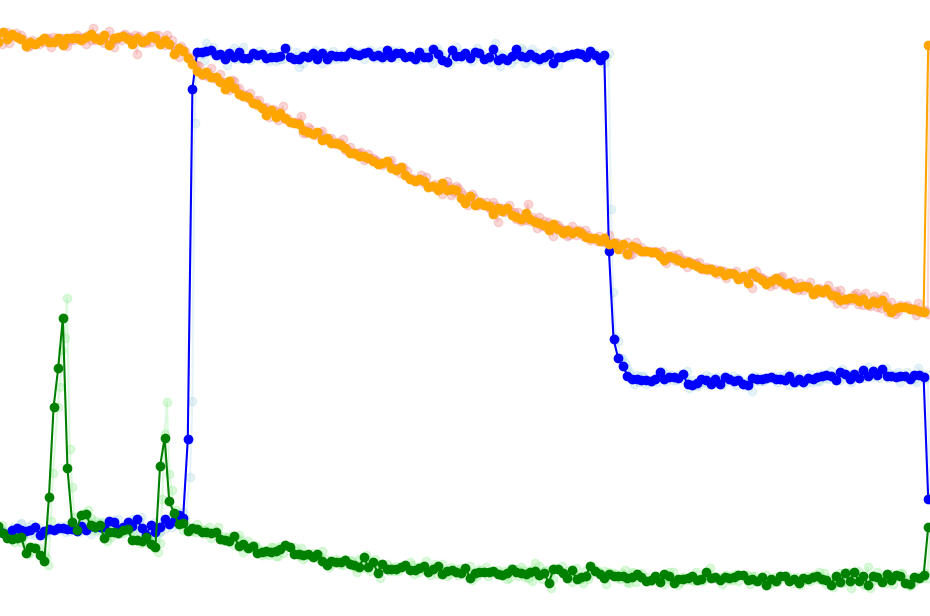Condensation (CO2): (220, 0, 442, 616), (442, 0, 664, 616)
High O2: (886, 0, 928, 616)
Low CO2: (886, 0, 928, 616)
Normal: (220, 0, 928, 616), (442, 0, 886, 616), (220, 0, 442, 616), (442, 0, 664, 616), (664, 0, 886, 616), (886, 0, 928, 616)
